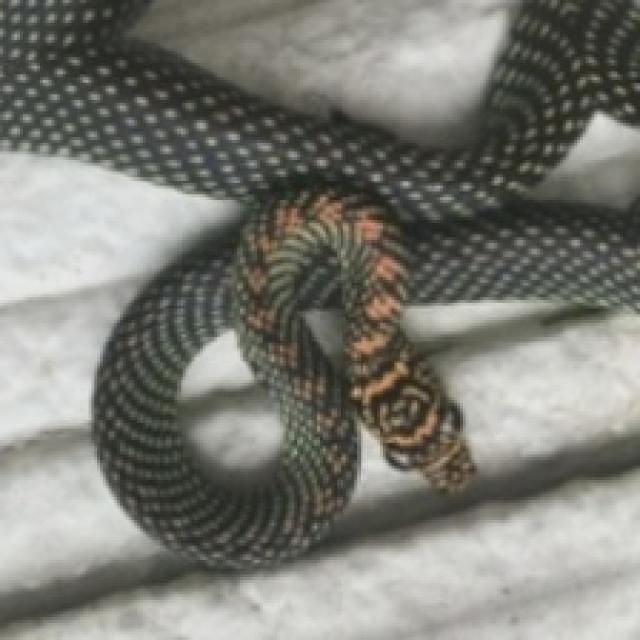paradise tree snake: (0, 0, 637, 563), (174, 326, 286, 474)
